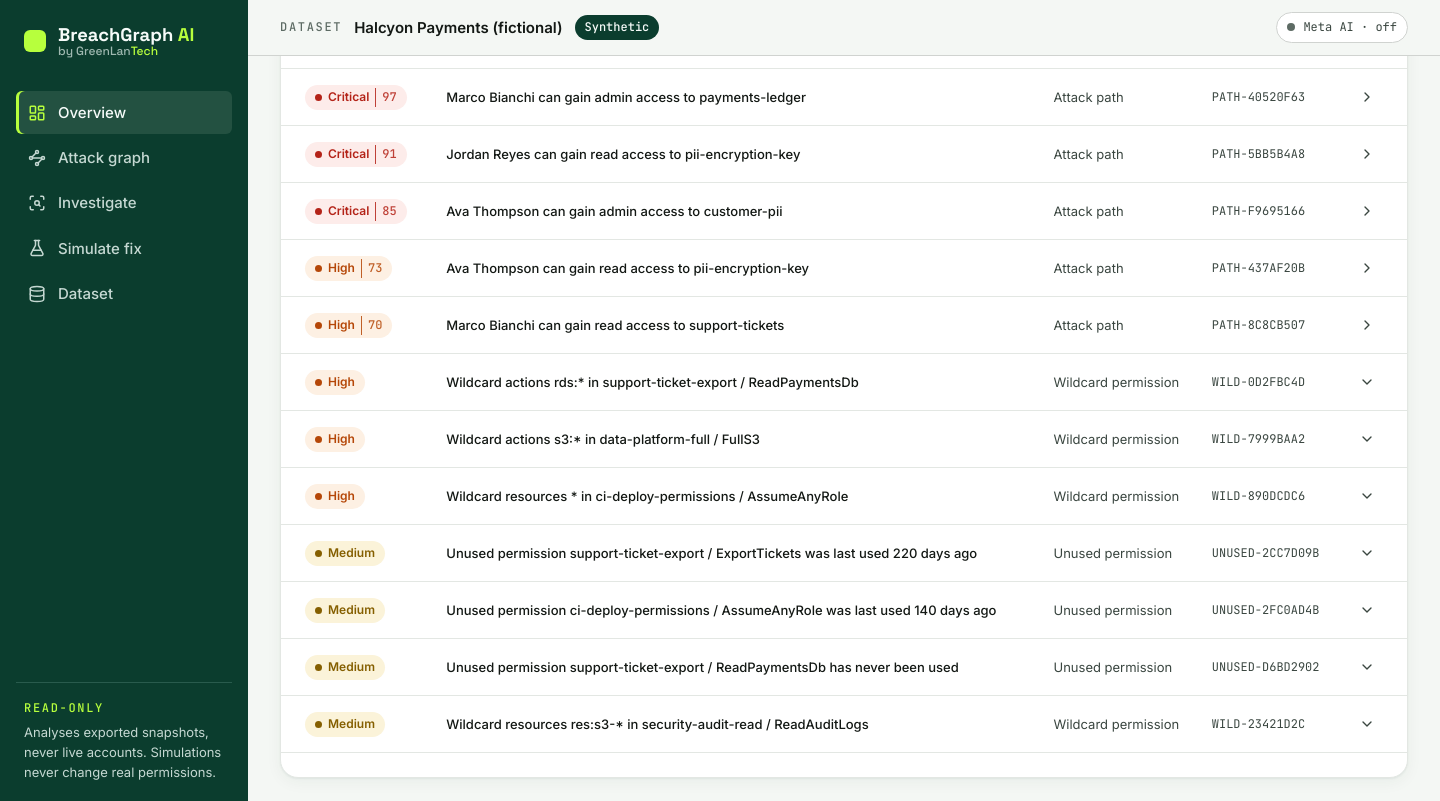
it: overview › shows statement evidence when a wildcard finding is expanded
(page scrolled)
Click the button named "Show evidence for Wildcard resources * in ci-deploy-permissions" at (1367, 496), box x1=1351 y1=480 x2=1383 y2=512
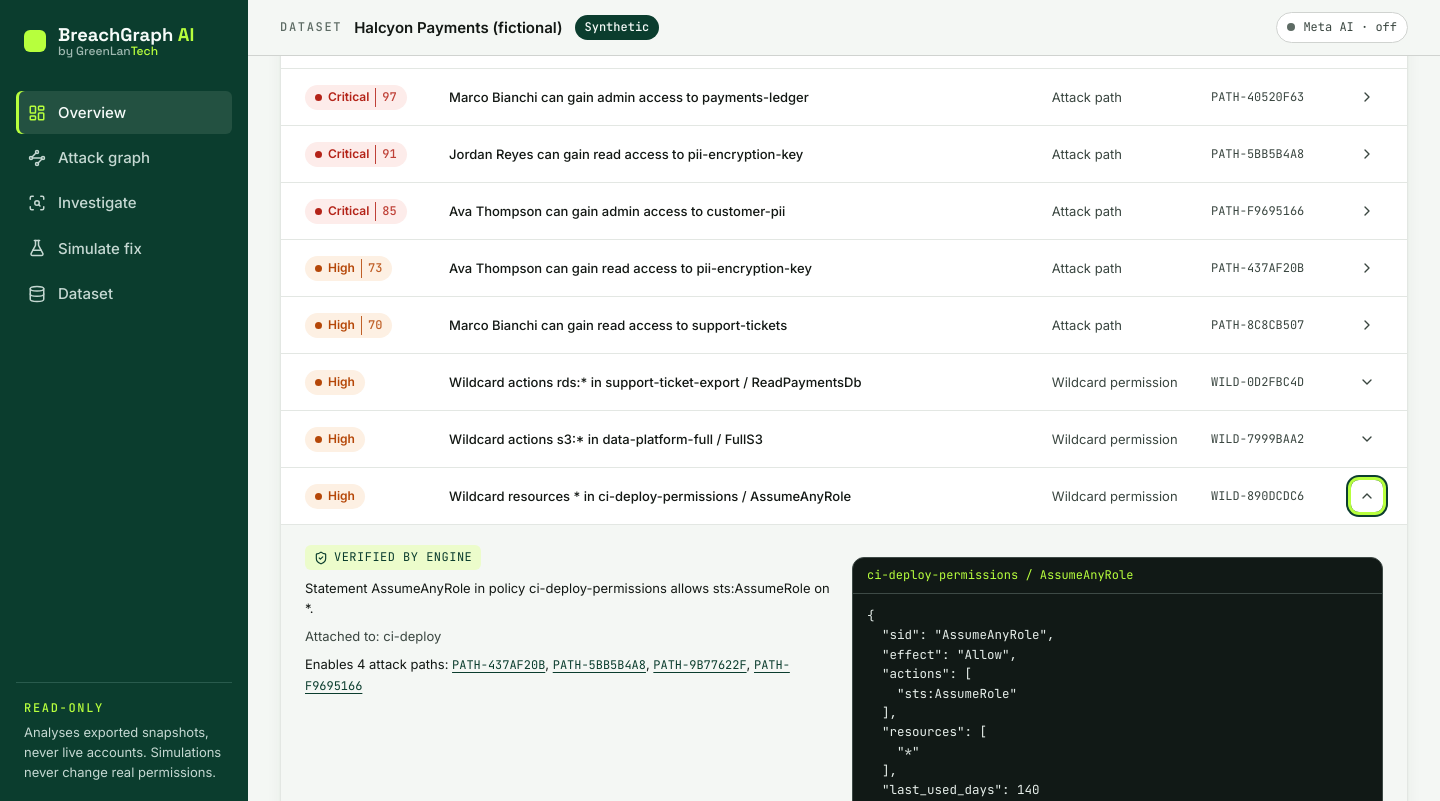
Result: the text "Enables 4 attack paths" is shown at x1=305 y1=654 x2=836 y2=696
Result: the text "ci-deploy-permissions / AssumeAnyRole" is shown at x1=853 y1=558 x2=1382 y2=594
